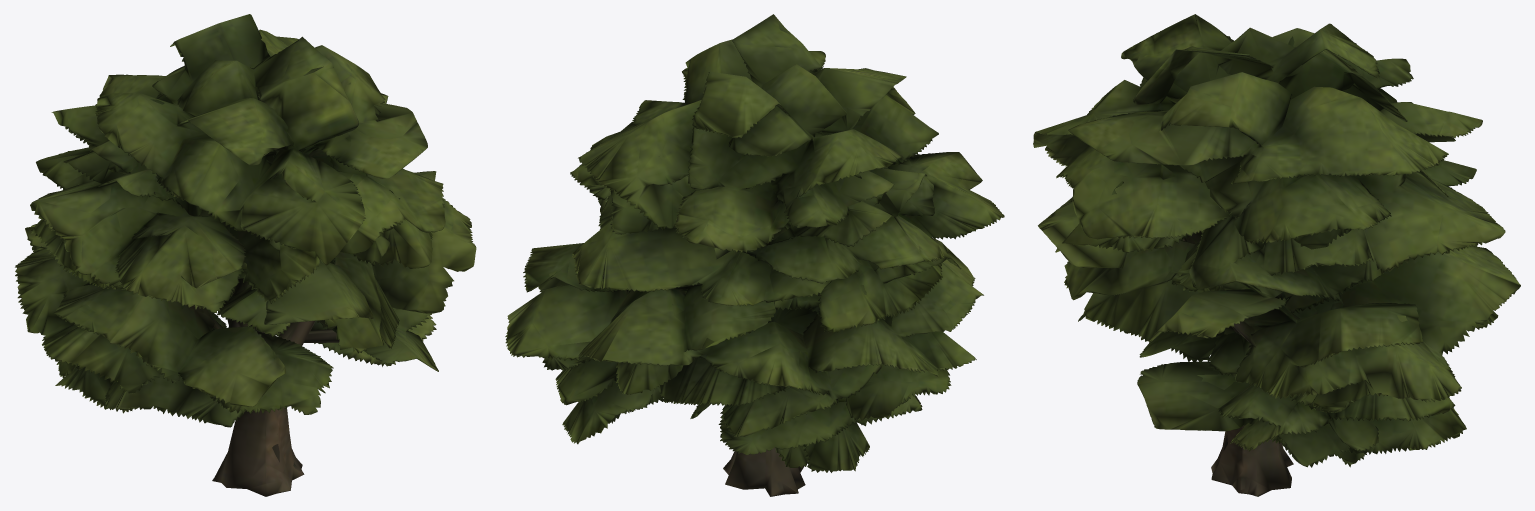
The model's file is Roble.glb.
3 views of the same model, side by side, from view 1: azimuth 30°, elevation 25°; view 2: azimuth 150°, elevation 25°; view 3: azimuth 270°, elevation 25° (orthographic). The views are drawn at different scales.
Visible parts, largest first — view 1: node_0; view 2: node_0; view 3: node_0.
Boxes of the visible parts, x1,y1,x2,y2 form: node_0: (15,14,476,496); node_0: (505,14,1004,496); node_0: (1033,14,1520,496).
Bounding box in the file's own units: 1.05 × 1.06 × 1.06.
Materials: 1 (1 with a texture image).
